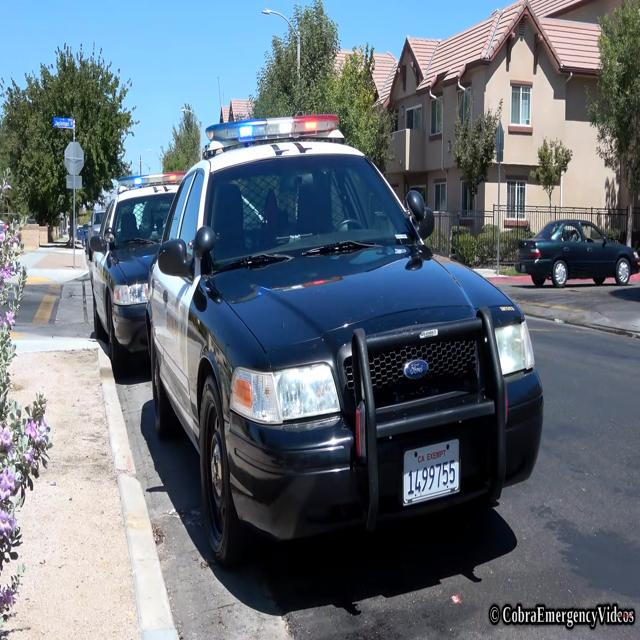emergency-vehicles: (157, 100, 550, 566), (86, 160, 192, 353)
